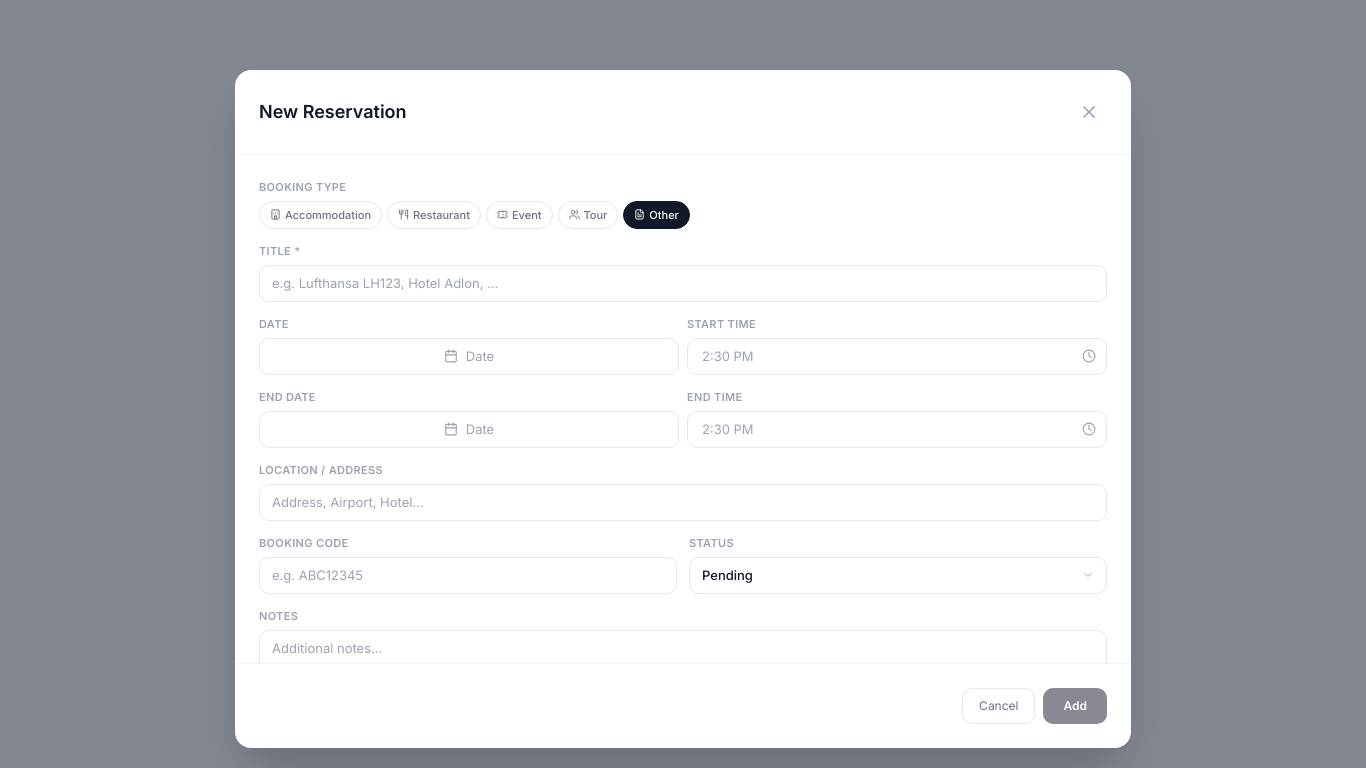
it: ReservationModal › FE-PLANNER-RESMODAL-008: hotel type shows check-in/check-out time fields
Click the button "Accommodation": {"x": 321, "y": 215} [259, 200, 382, 229]
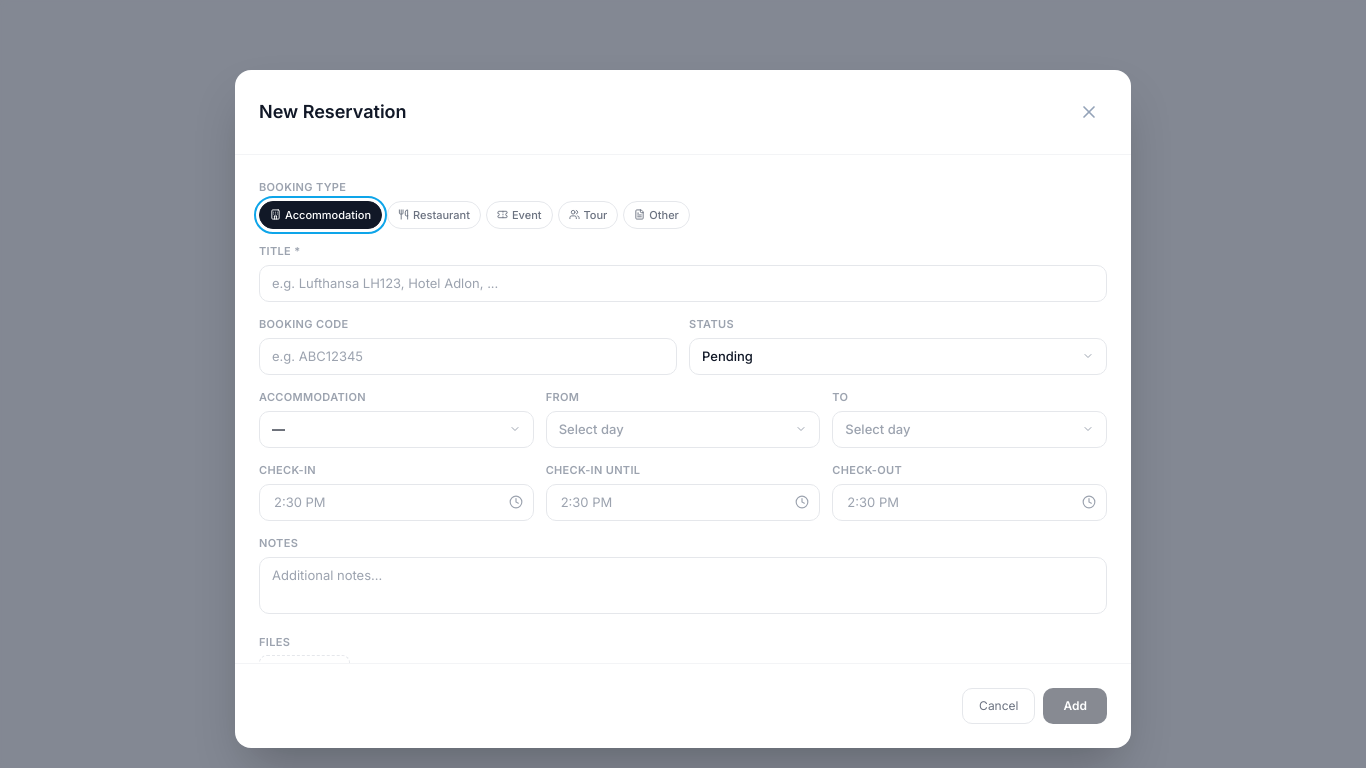
Check: the text "Check-out" is shown, box [832, 463, 902, 477]
